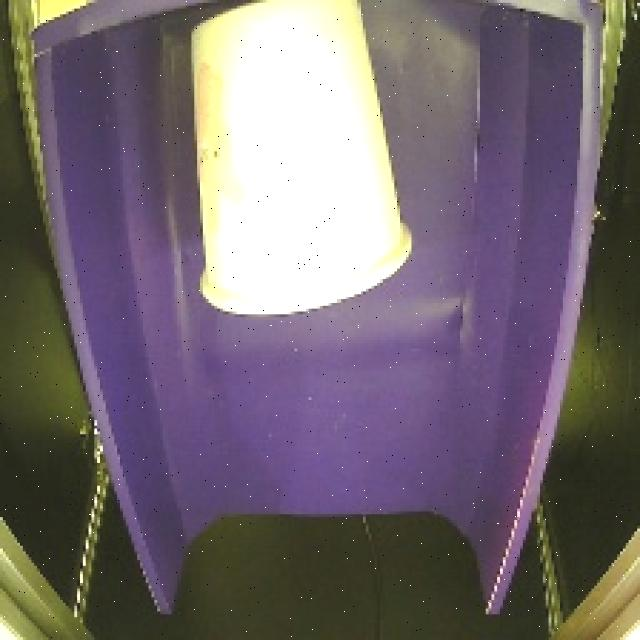cups: (167, 0, 421, 341)
